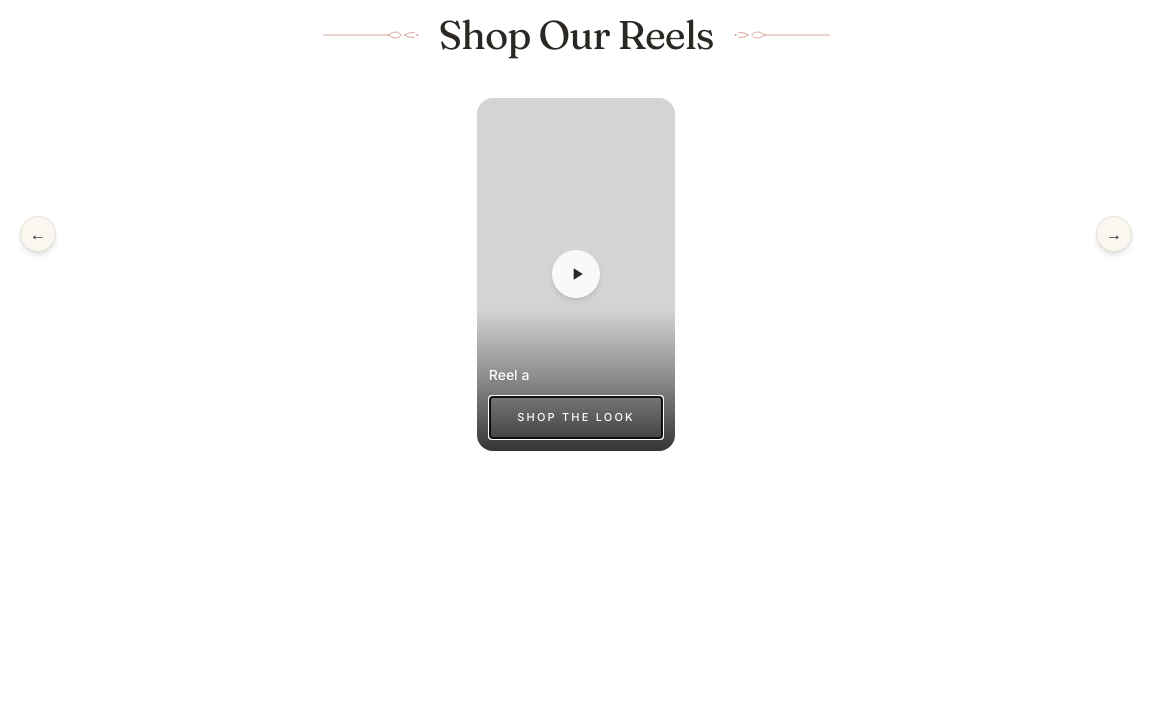
Scenario: ShoppableReels storefront › multiple products open an accessible tray that closes on Escape and returns focus
This screenshot has width=1152, height=720.
Click the button "Shop the look" at (576,417), box [489,396,663,439]
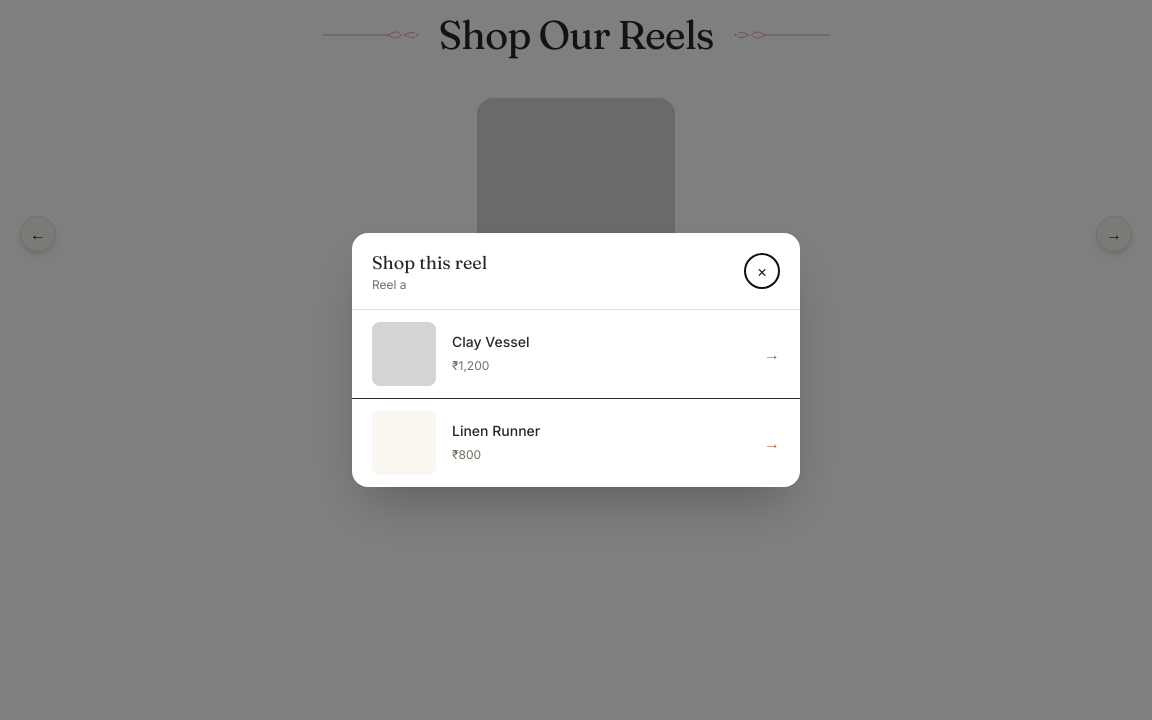
Press Escape
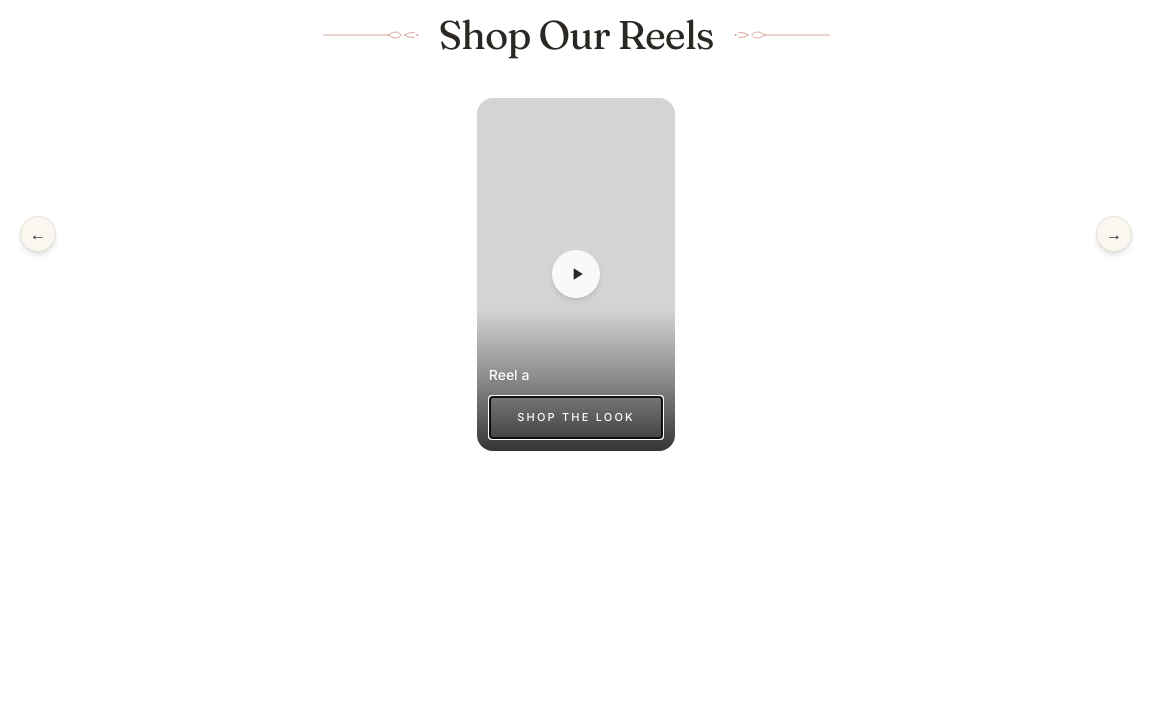
Check: the dialog is gone
